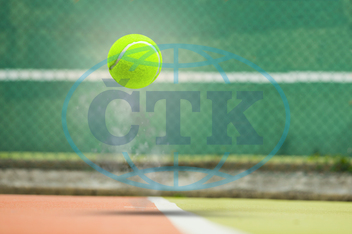tennis_ball: (107, 33, 164, 88)
